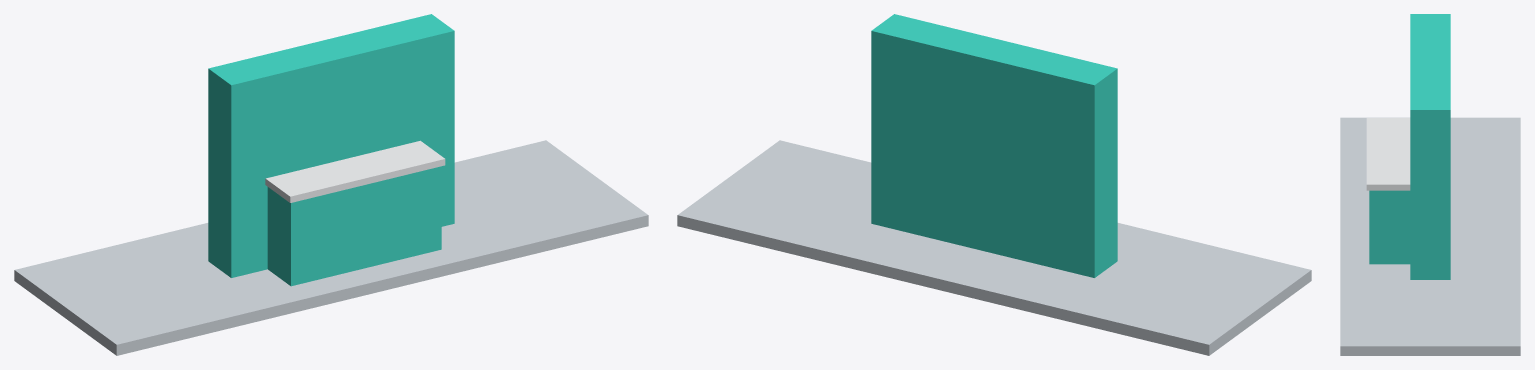
3 views of the same model, side by side, from view 1: azimuth 30°, elevation 25°; view 2: azimuth 150°, elevation 25°; view 3: azimuth 270°, elevation 25° (orthographic). The views are drawn at different scales.
Visible parts, largest first — view 1: Exhibition Booth Concept; view 2: Exhibition Booth Concept; view 3: Exhibition Booth Concept.
Part boxes in pixels (x1,y1,x2,y2): Exhibition Booth Concept: (14, 14, 648, 355); Exhibition Booth Concept: (677, 14, 1311, 355); Exhibition Booth Concept: (1340, 14, 1520, 355).
Bounding box in the file's own units: 6 × 2.2 × 2.
